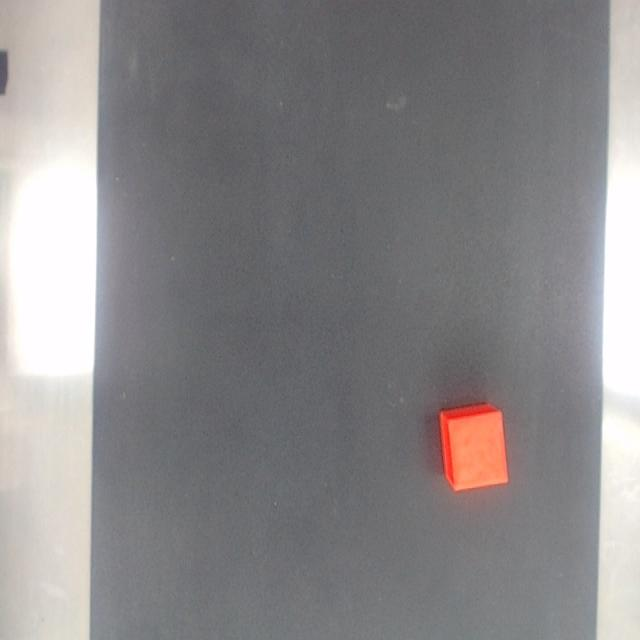Rojo: (438, 404, 508, 491)
